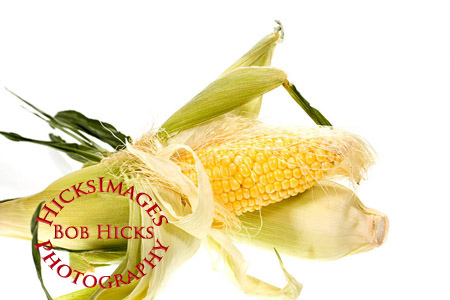corn: (152, 125, 352, 233)
